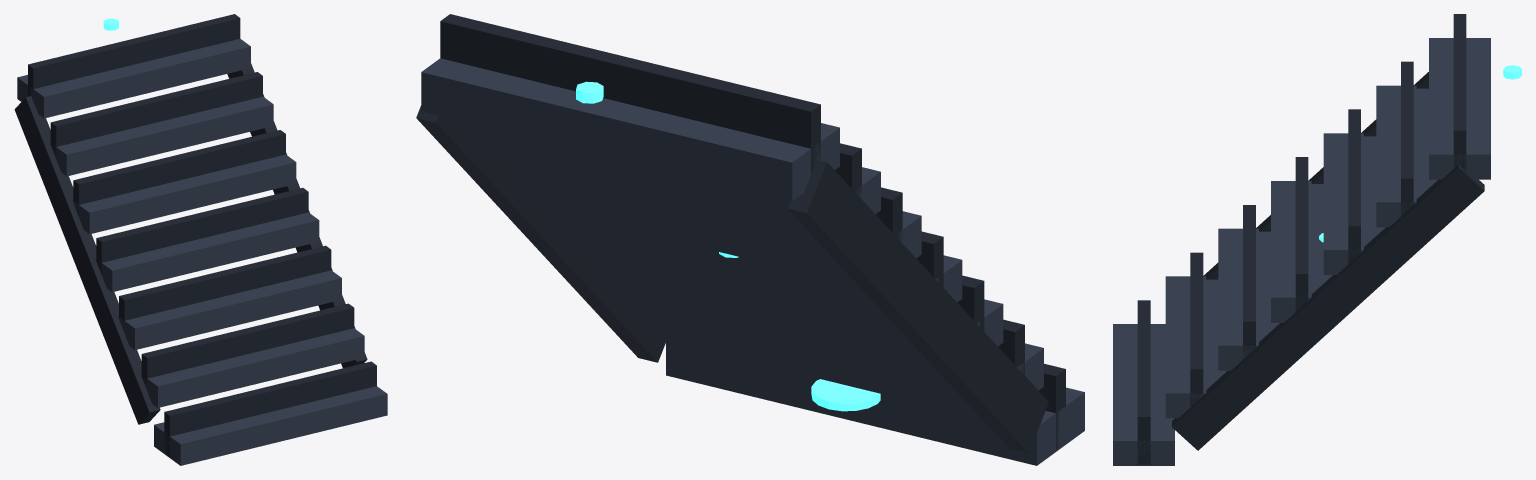
Rendered from mod_escalera.fbx.
The picture shows the model from 3 angles, left to right: view 1: azimuth 30°, elevation 25°; view 2: azimuth 150°, elevation 25°; view 3: azimuth 270°, elevation 25°; orthographic projection. The views are drawn at different scales.
Visible parts, largest first — view 1: Escalera; view 2: Escalera, Escalera_Marca; view 3: Escalera.
Part boxes in pixels (x1,y1,x2,y2): Escalera: (14, 14, 387, 465); Escalera: (416, 14, 1084, 465); Escalera_Marca: (811, 379, 880, 411); Escalera: (1113, 14, 1490, 465).
Bounding box in the file's own units: 0.8848 × 1.14 × 1.24.
